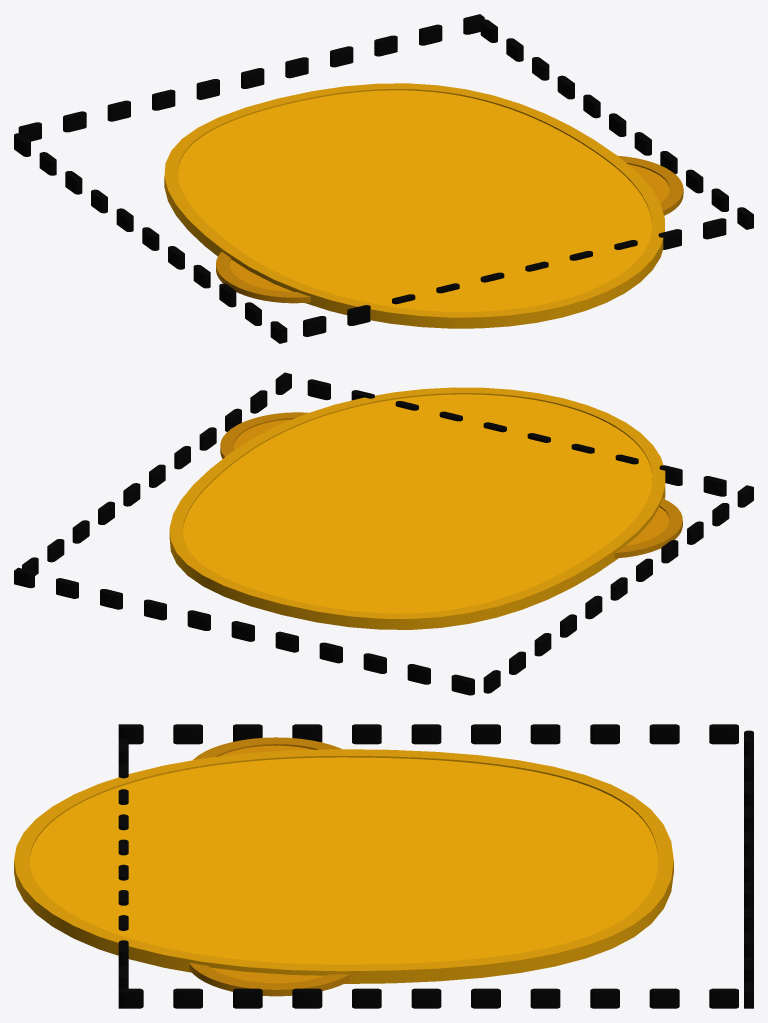
File: emoji_u1f9b2.glb
3 renders of one model, top to bottom at view 1: azimuth 30°, elevation 25°; view 2: azimuth 150°, elevation 25°; view 3: azimuth 270°, elevation 25°, orthographic. The views are drawn at different scales.
Visible parts, largest first — view 1: emoji_u1f9b2; view 2: emoji_u1f9b2; view 3: emoji_u1f9b2.
Boxes of the visible parts, x1,y1,x2,y2 form: emoji_u1f9b2: [14, 14, 753, 343]; emoji_u1f9b2: [14, 372, 753, 695]; emoji_u1f9b2: [14, 724, 753, 1008].
Size of the model in its own units: 0.036 by 0.001 by 0.0419.
